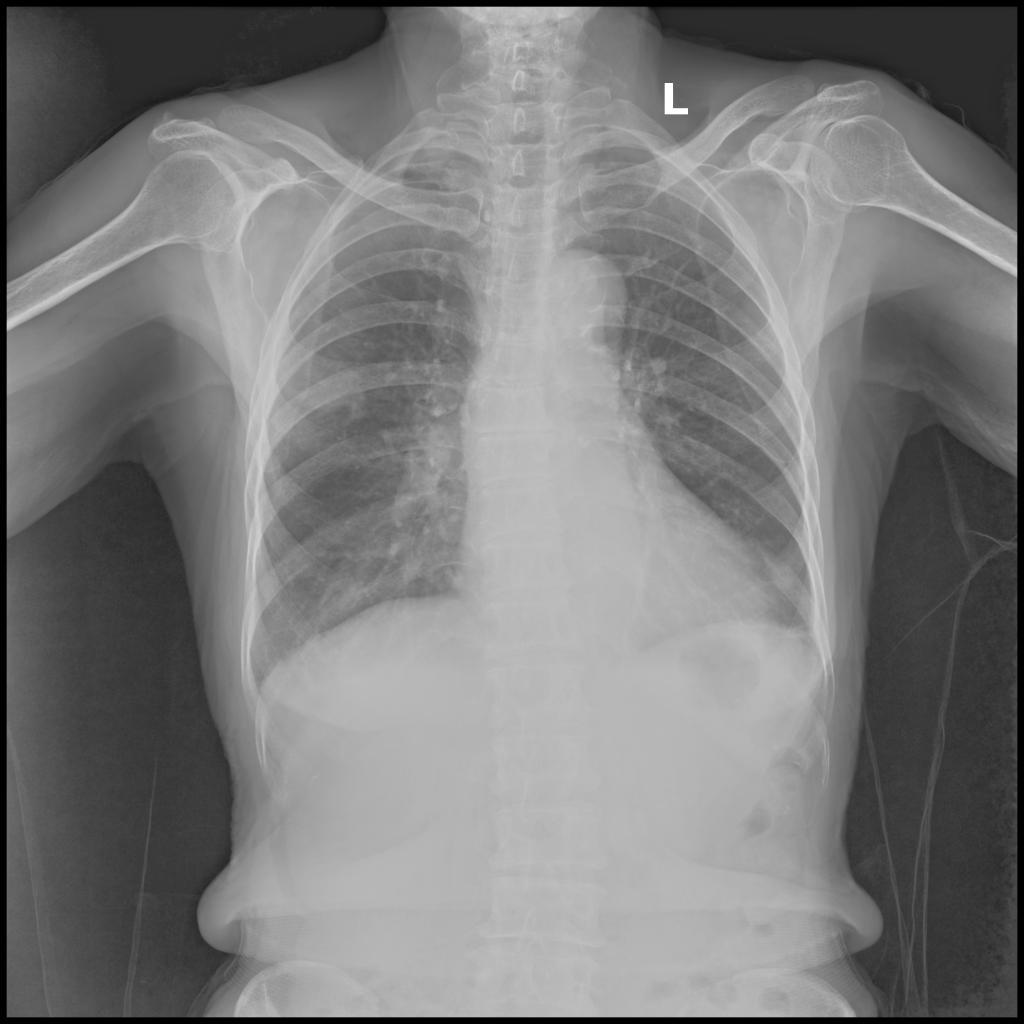Nodule: (775, 564, 798, 598)
